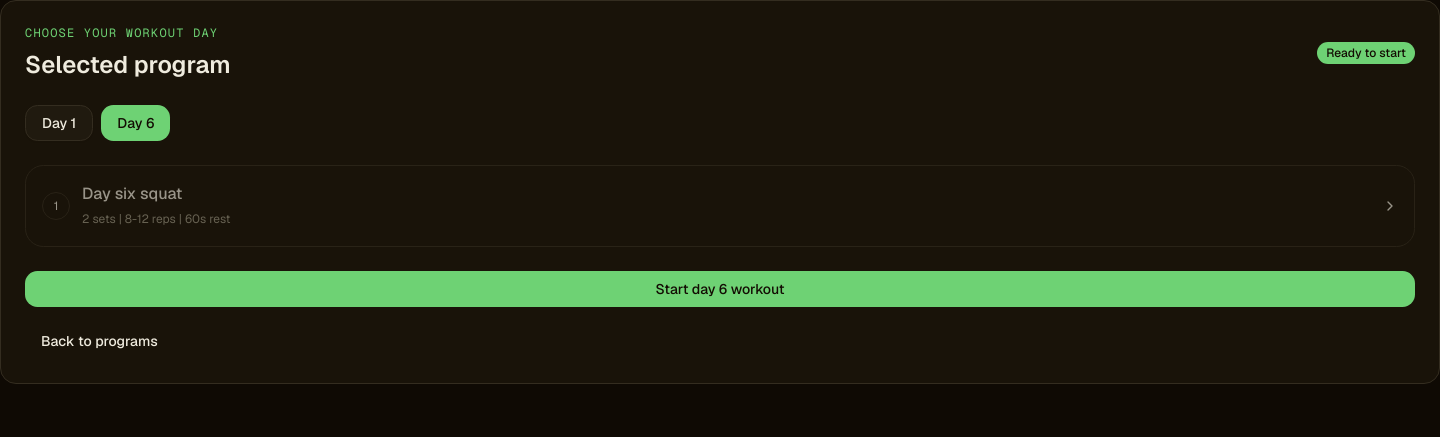
Scenario: workout interaction › loads a requested sixth day and locks day selection during the session
Expected: the button "1 Day six squat 2 sets | 8-12 reps | 60s rest" is disabled, [25,165,1415,247]
Click the button "Start day 6 workout" at (720,289), box [25,271,1415,307]
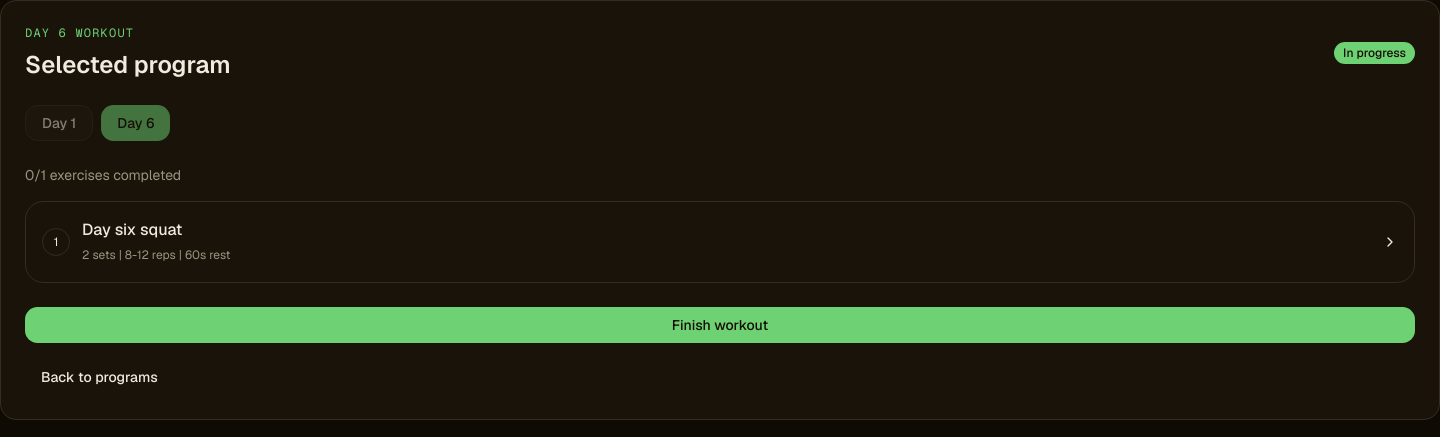
Expected: the button "Day 1" is disabled, [25,105,93,141]
Expected: the button "Day 6" is disabled, [101,105,170,141]
Expected: the button "1 Day six squat 2 sets | 8-12 reps | 60s rest" is enabled, [25,201,1415,283]
